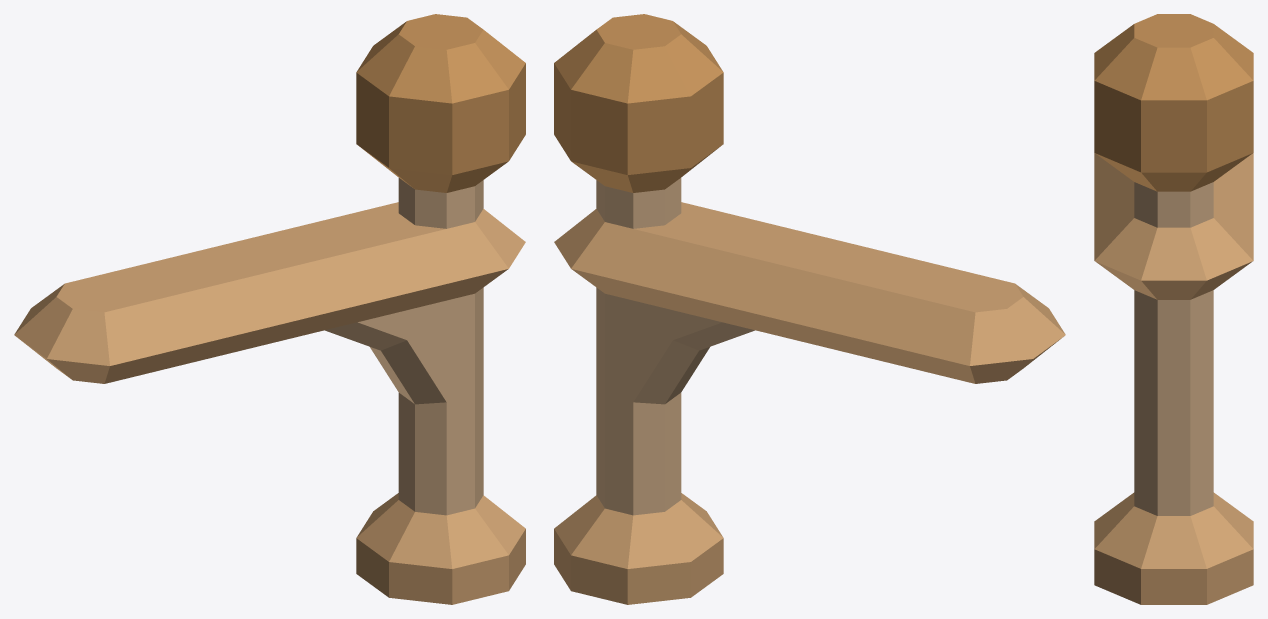
Rendered from Balcony_Railing_End.fbx.
3 views of the same model, side by side, from view 1: azimuth 30°, elevation 25°; view 2: azimuth 150°, elevation 25°; view 3: azimuth 270°, elevation 25° (orthographic).
Visible parts, largest first — view 1: Sandstone_5.Sandstone_5.Sandstone_5.Sandstone_5.Sandstone_5., Sandstone_6.Sandstone_6.Sandstone_6.Sandstone_6, Sandstone_4.Sandstone_4.Sandstone_4.Sandstone_4.Sandstone_4.; view 2: Sandstone_5.Sandstone_5.Sandstone_5.Sandstone_5.Sandstone_5., Sandstone_6.Sandstone_6.Sandstone_6.Sandstone_6, Sandstone_4.Sandstone_4.Sandstone_4.Sandstone_4.Sandstone_4.; view 3: Sandstone_5.Sandstone_5.Sandstone_5.Sandstone_5.Sandstone_5., Sandstone_6.Sandstone_6.Sandstone_6.Sandstone_6, Sandstone_4.Sandstone_4.Sandstone_4.Sandstone_4.Sandstone_4..
Part boxes in pixels (left/top/right/bottom): Sandstone_5.Sandstone_5.Sandstone_5.Sandstone_5.Sandstone_5.: left=14, top=202, right=525, bottom=604; Sandstone_6.Sandstone_6.Sandstone_6.Sandstone_6: left=356, top=14, right=525, bottom=192; Sandstone_4.Sandstone_4.Sandstone_4.Sandstone_4.Sandstone_4.: left=325, top=178, right=483, bottom=515; Sandstone_5.Sandstone_5.Sandstone_5.Sandstone_5.Sandstone_5.: left=554, top=202, right=1065, bottom=604; Sandstone_6.Sandstone_6.Sandstone_6.Sandstone_6: left=554, top=14, right=723, bottom=192; Sandstone_4.Sandstone_4.Sandstone_4.Sandstone_4.Sandstone_4.: left=596, top=178, right=754, bottom=515; Sandstone_5.Sandstone_5.Sandstone_5.Sandstone_5.Sandstone_5.: left=1094, top=153, right=1253, bottom=604; Sandstone_6.Sandstone_6.Sandstone_6.Sandstone_6: left=1094, top=14, right=1253, bottom=191; Sandstone_4.Sandstone_4.Sandstone_4.Sandstone_4.Sandstone_4.: left=1134, top=182, right=1213, bottom=515.
Bounding box in the file's own units: 0.7 × 0.75 × 0.2.
